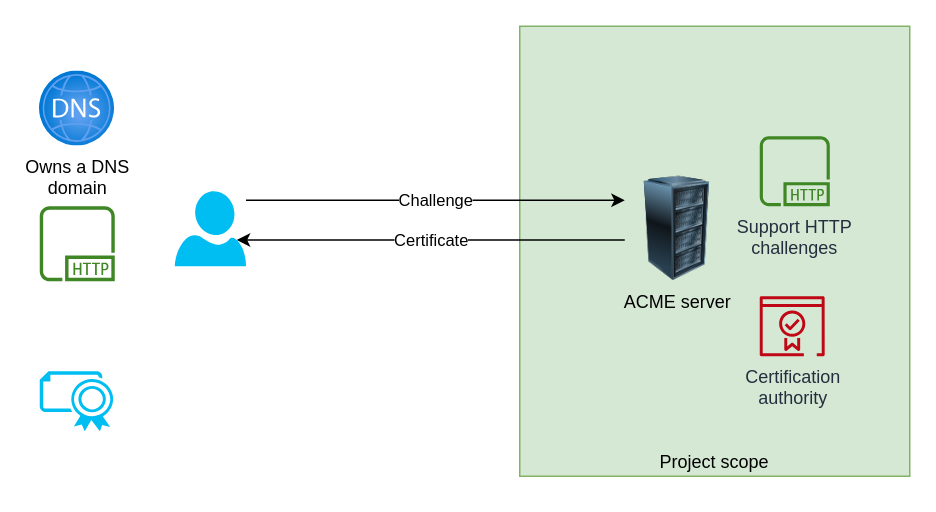
Some shapes in this 936 by 512 pixel diagram are drawn without their labels. The shapes that lost their labels are listed below. From the top down, each one's box as (x1, y1, x2, y2) in pixels, then its label:
(39, 206, 114, 280): Has HTTP server
(174, 190, 245, 266): ACME client
(39, 370, 114, 430): Server Leaf Certificate
